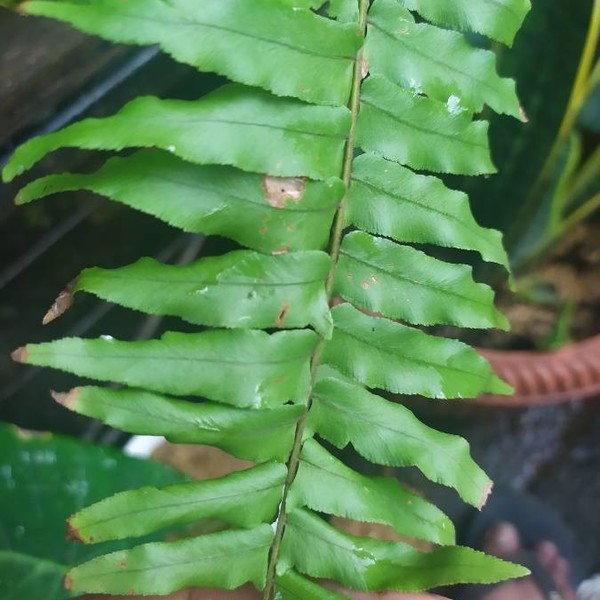obstacle: (71, 5, 508, 575)
